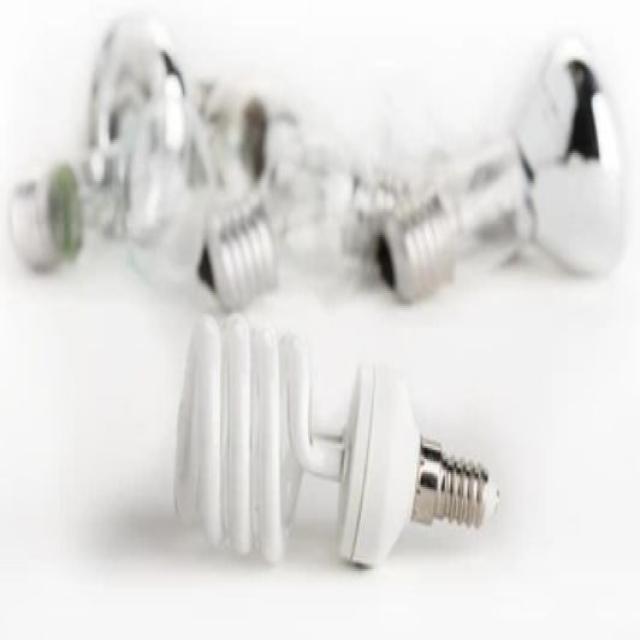electronic: (9, 11, 626, 310), (172, 310, 499, 569), (342, 32, 626, 304), (84, 9, 214, 286), (336, 358, 499, 569), (508, 32, 626, 278), (9, 158, 84, 272)
